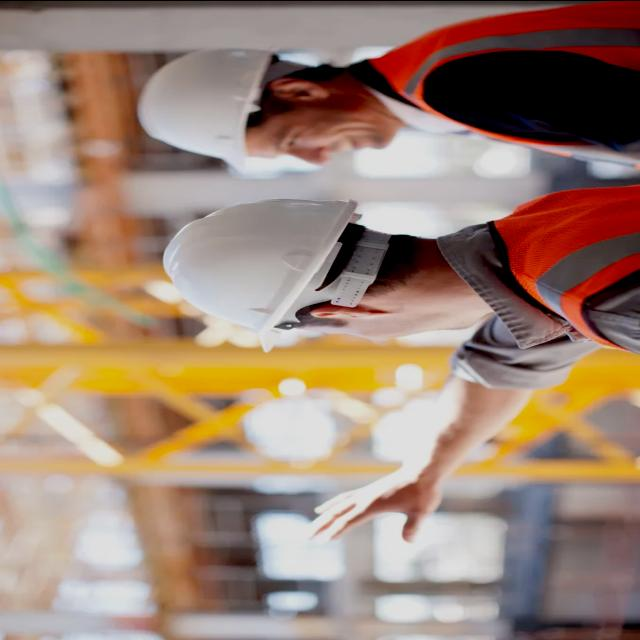Hard Hat: (150, 185, 364, 356), (127, 35, 293, 179)
Reflective Vest: (370, 0, 632, 162), (480, 180, 640, 366)
